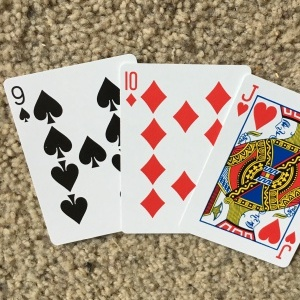card: (4, 54, 124, 246), (120, 62, 234, 234)
